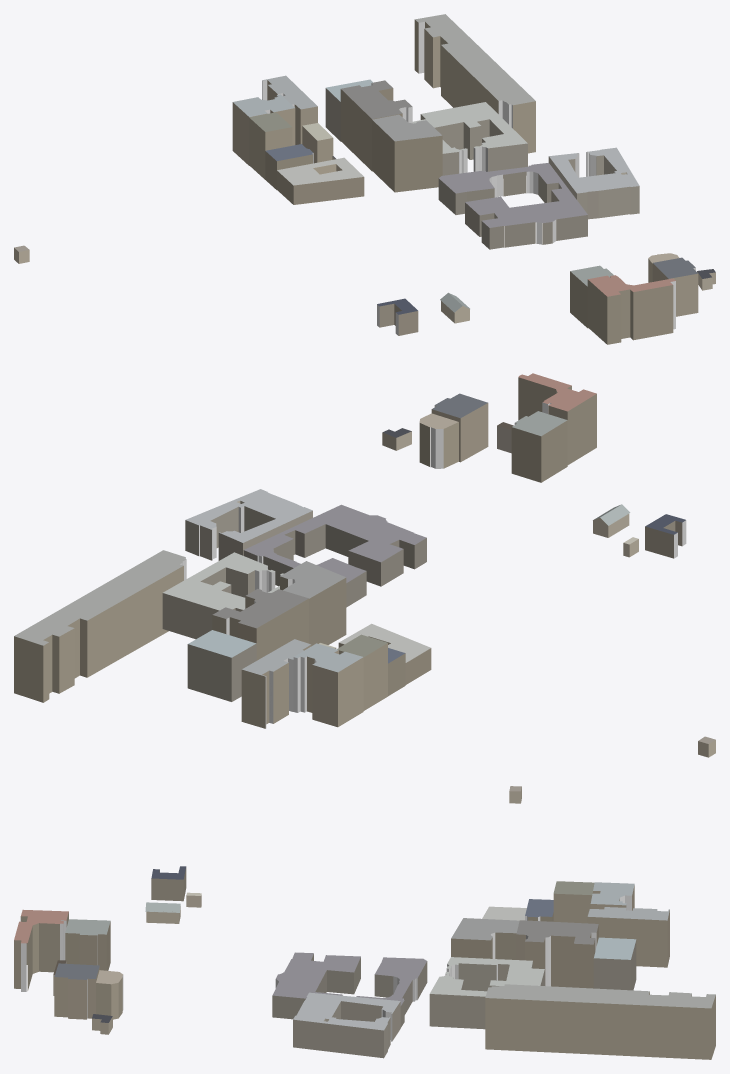
3 renders of one model, top to bottom at view 1: azimuth 30°, elevation 25°; view 2: azimuth 150°, elevation 25°; view 3: azimuth 270°, elevation 25°, orthographic. The views are drawn at different scales.
Visible parts, largest first — view 1: tuile; view 2: tuile; view 3: tuile.
Part boxes in pixels (x1,y1,x2,y2): tuile: (14, 14, 715, 344); tuile: (14, 373, 715, 757); tuile: (14, 786, 715, 1059).
Size of the model in its own units: 259 by 28.33 by 291.
